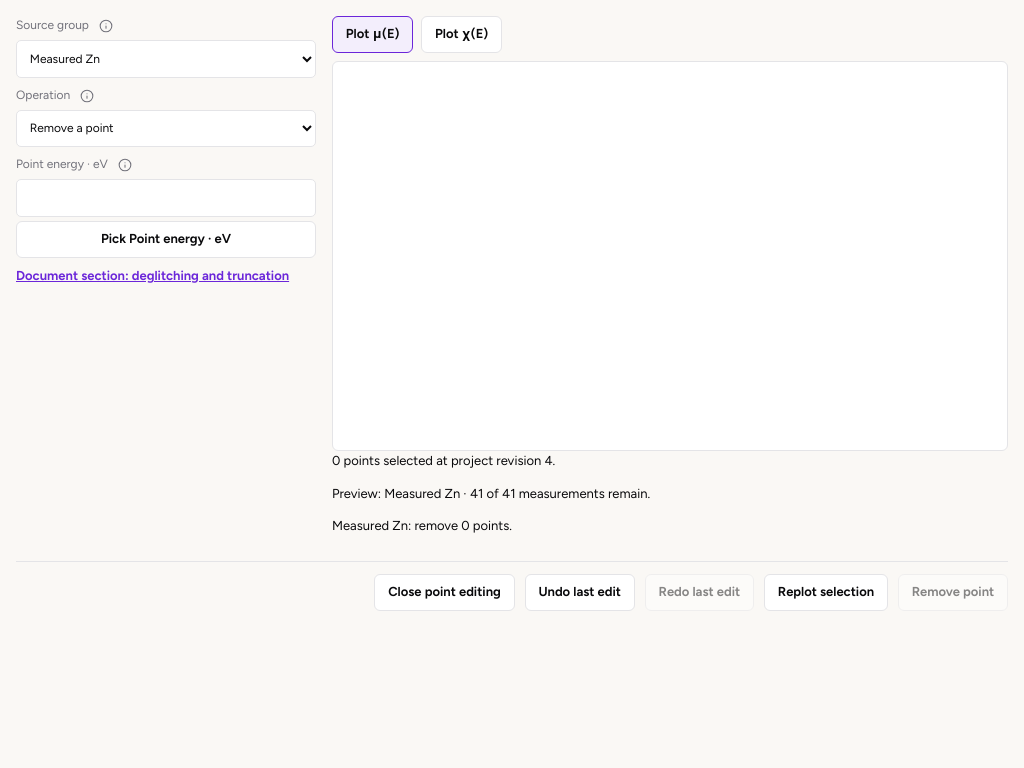
rejects an inconsistent marker response
Expected: the text "0 points selected at project revision 4." is shown, [332,453,555,468]
Type "7032" into the number field labelled "Point energy · eV". click: (166, 198)
box: [16,179,316,217]
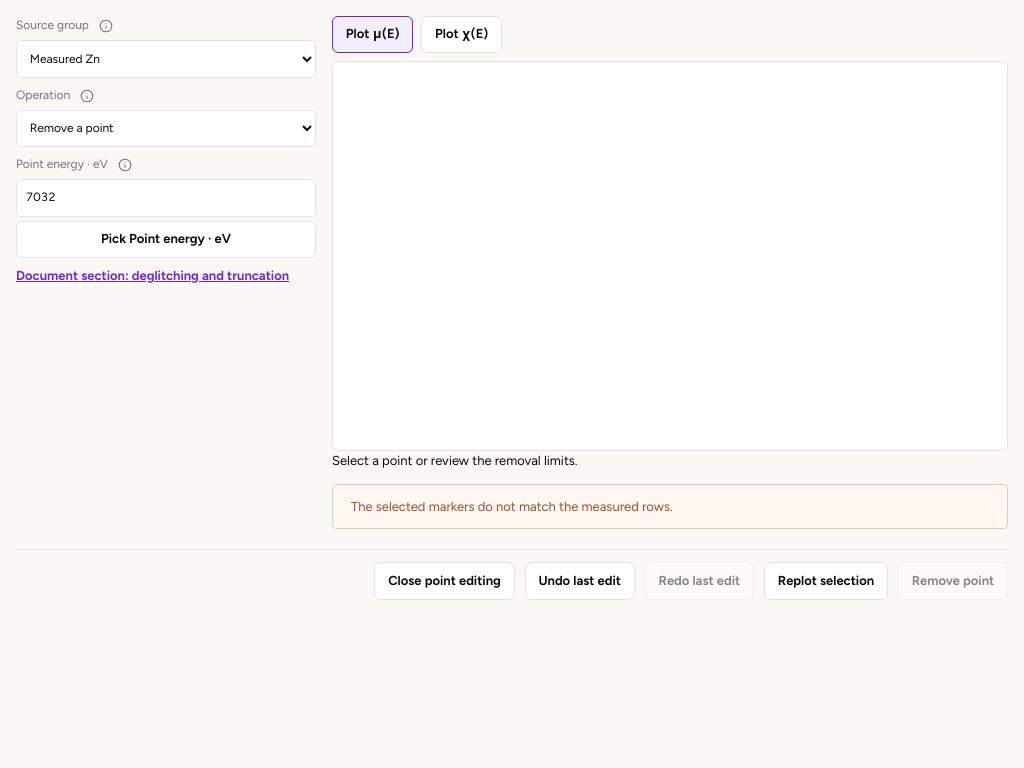
Expected: the button "Remove point" is disabled, [898,562,1008,600]
Expected: the message "The selected markers do not match the measured rows." is shown, [332,484,1008,529]
